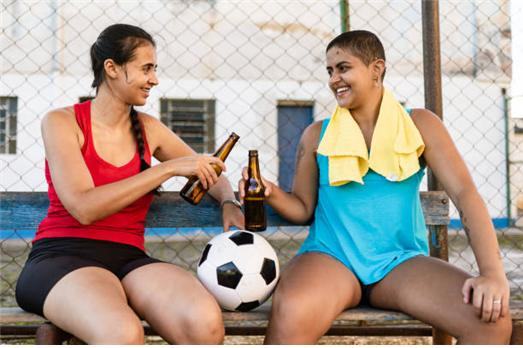alcohol: (182, 133, 241, 205), (244, 151, 271, 232)
